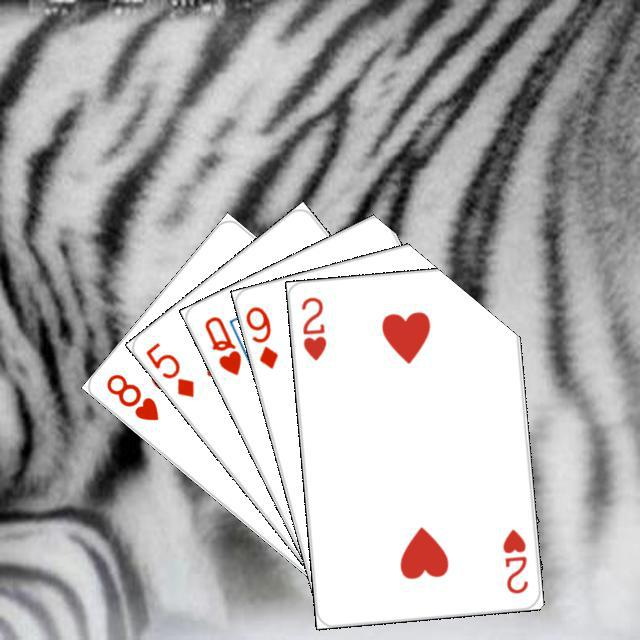2h: (498, 524, 530, 596), (296, 292, 328, 362)
5d: (140, 337, 196, 399)
8h: (101, 368, 161, 423)
9d: (241, 301, 280, 371)
Qh: (199, 311, 244, 377)
